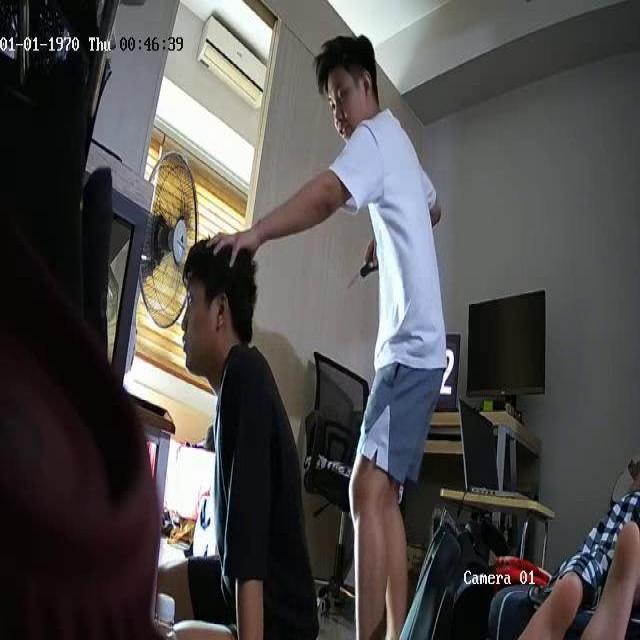scissor: (347, 261, 377, 289)
